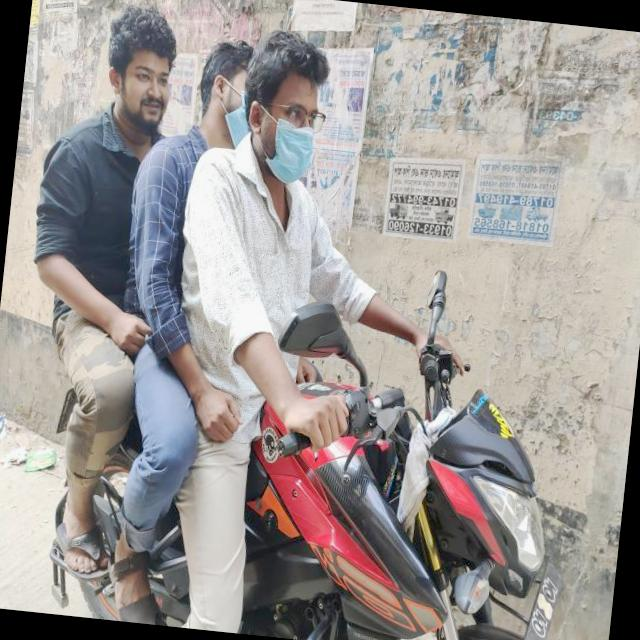motorcycle: (28, 281, 598, 640)
person: (145, 23, 354, 570), (0, 0, 203, 551), (81, 21, 288, 496)
